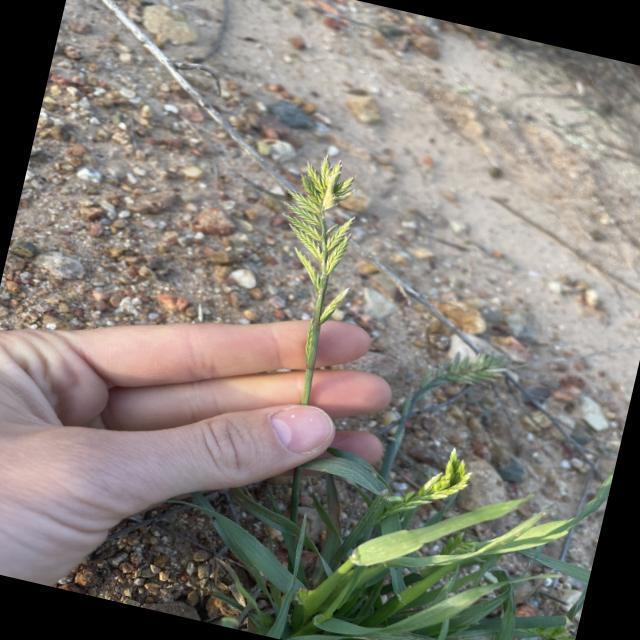Lolium: (234, 144, 382, 412), (396, 336, 515, 454)
